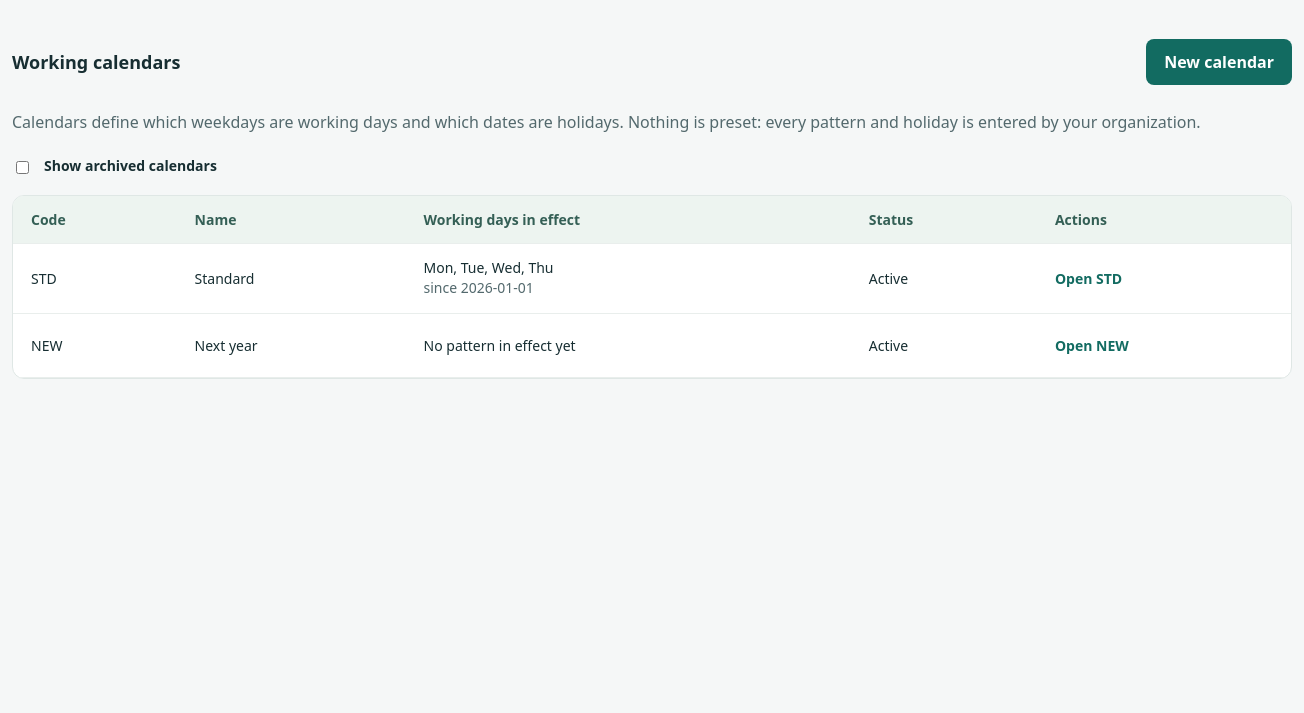
Test: adds a pattern and links 422 field errors to the inputs
The image size is (1304, 713).
Click the button "Open STD": (1089, 278) [1055,261,1122,296]
(page scrolled)
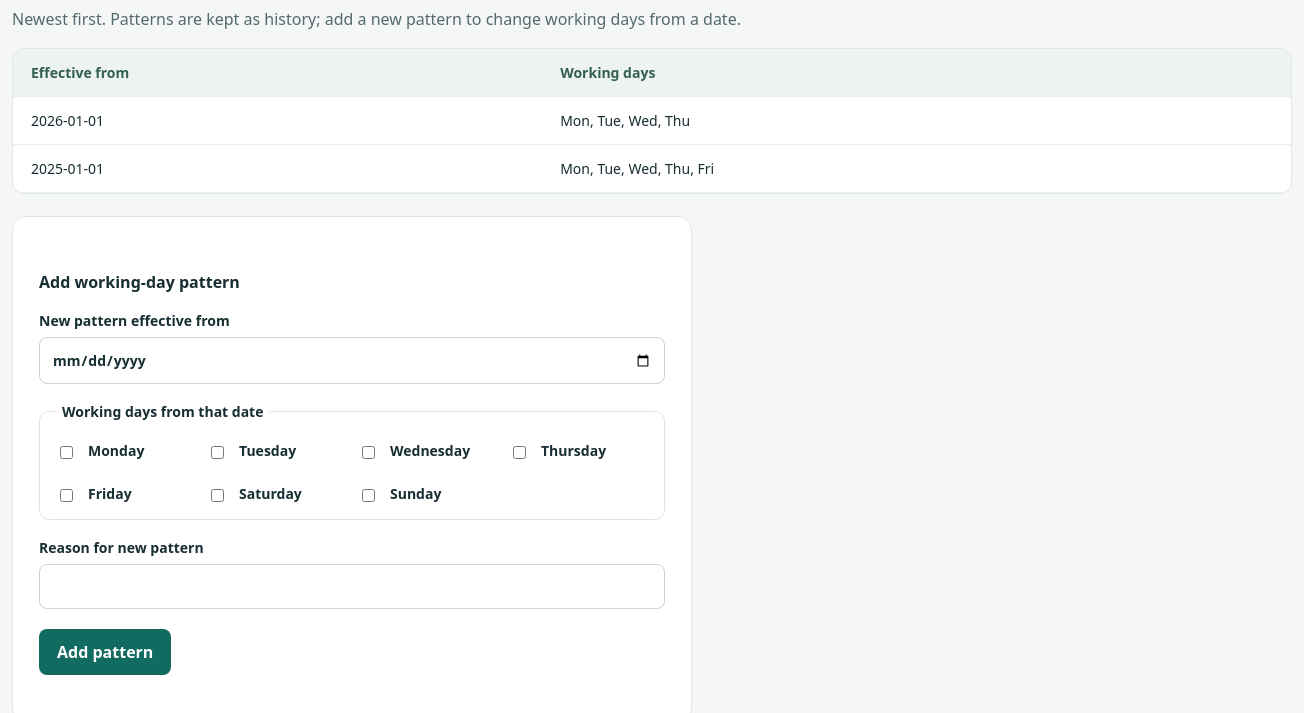
In the date field labelled "New pattern effective from": (352, 361) [39,337,665,384], type "2026-01-01"
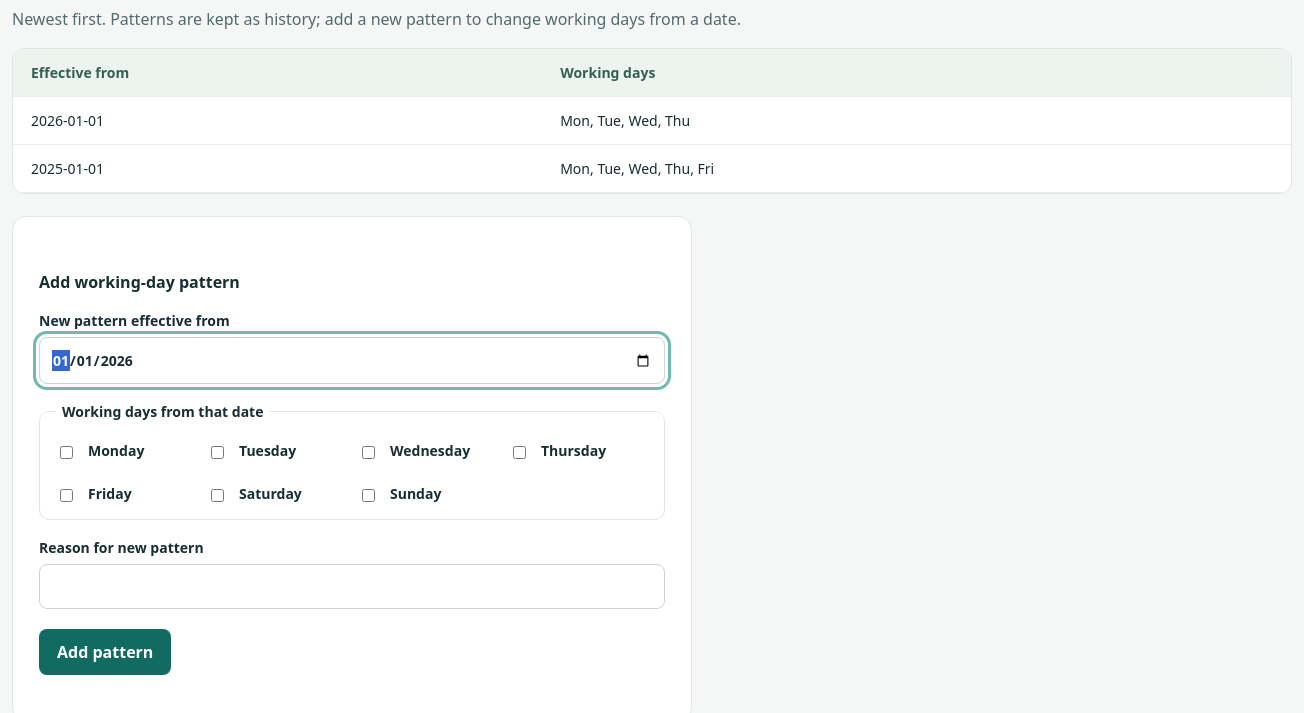
Click the checkbox labelled "Saturday": (218, 496) [211,489,224,502]
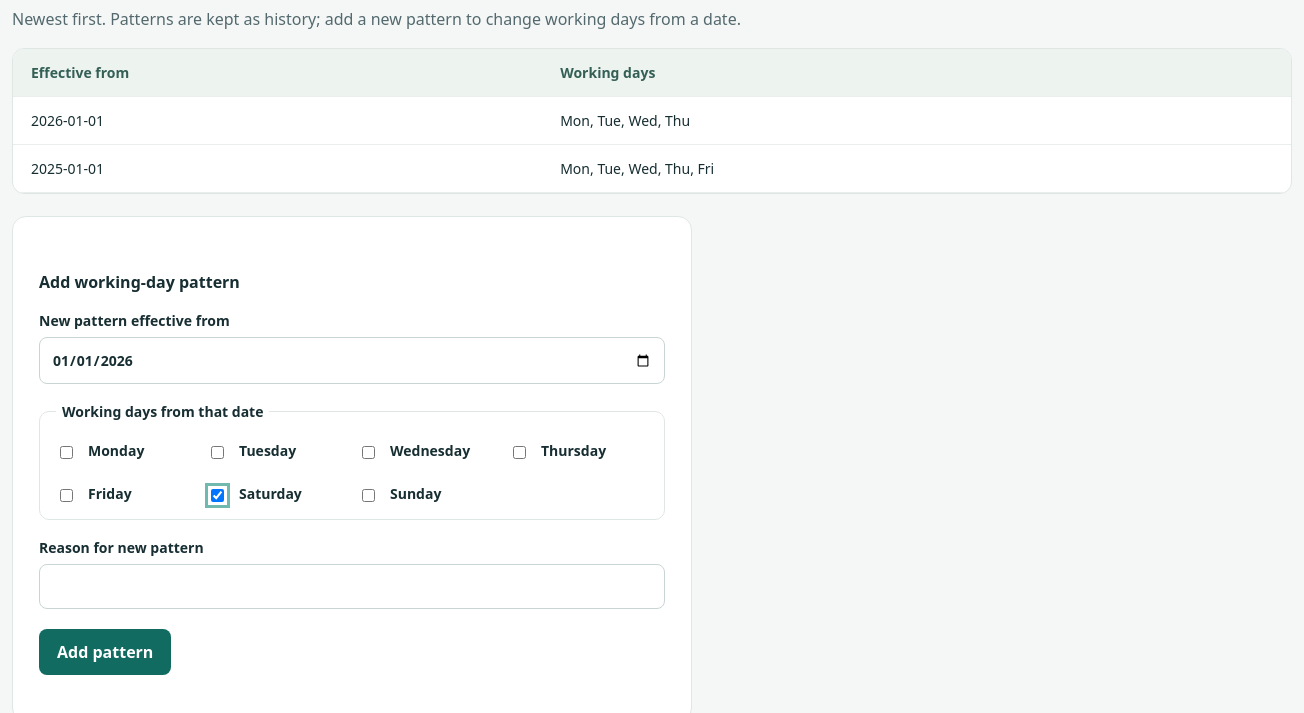
In the field labelled "Reason for new pattern": (352, 587) [39,564,665,609], type "Weekend rota"
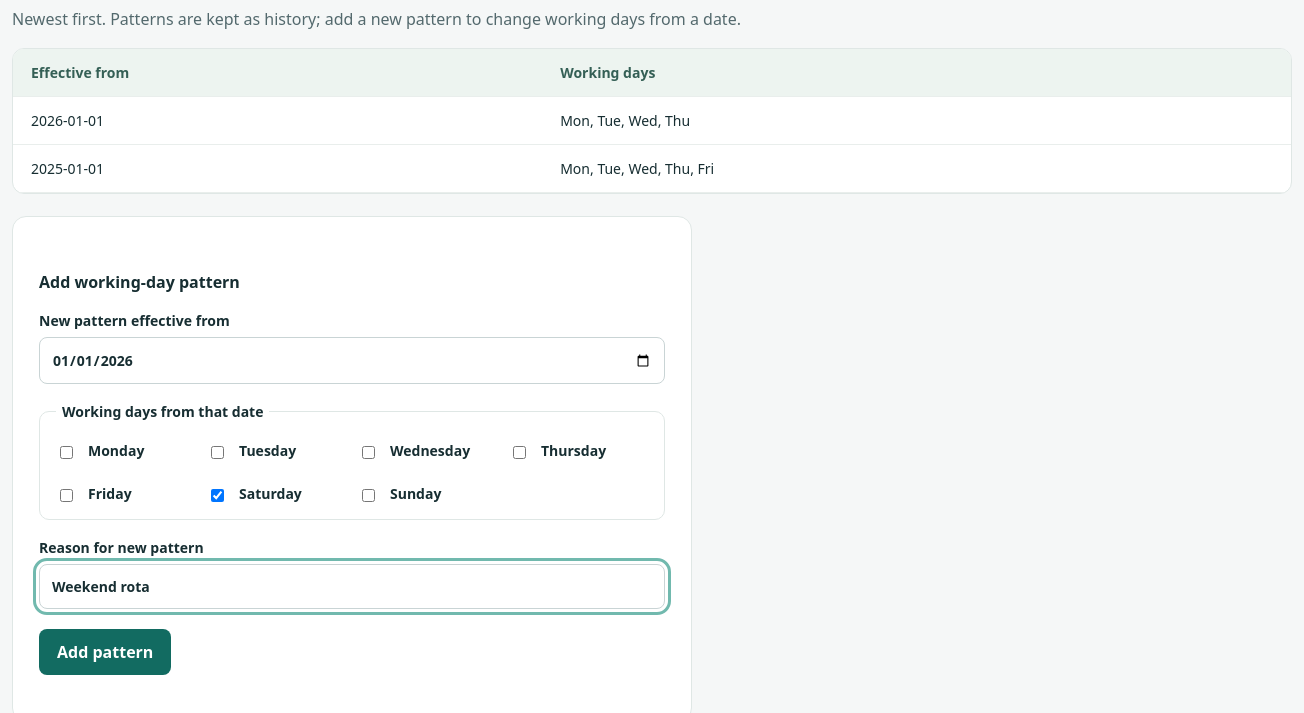
Click the button "Add pattern": (105, 652) [39,629,171,675]
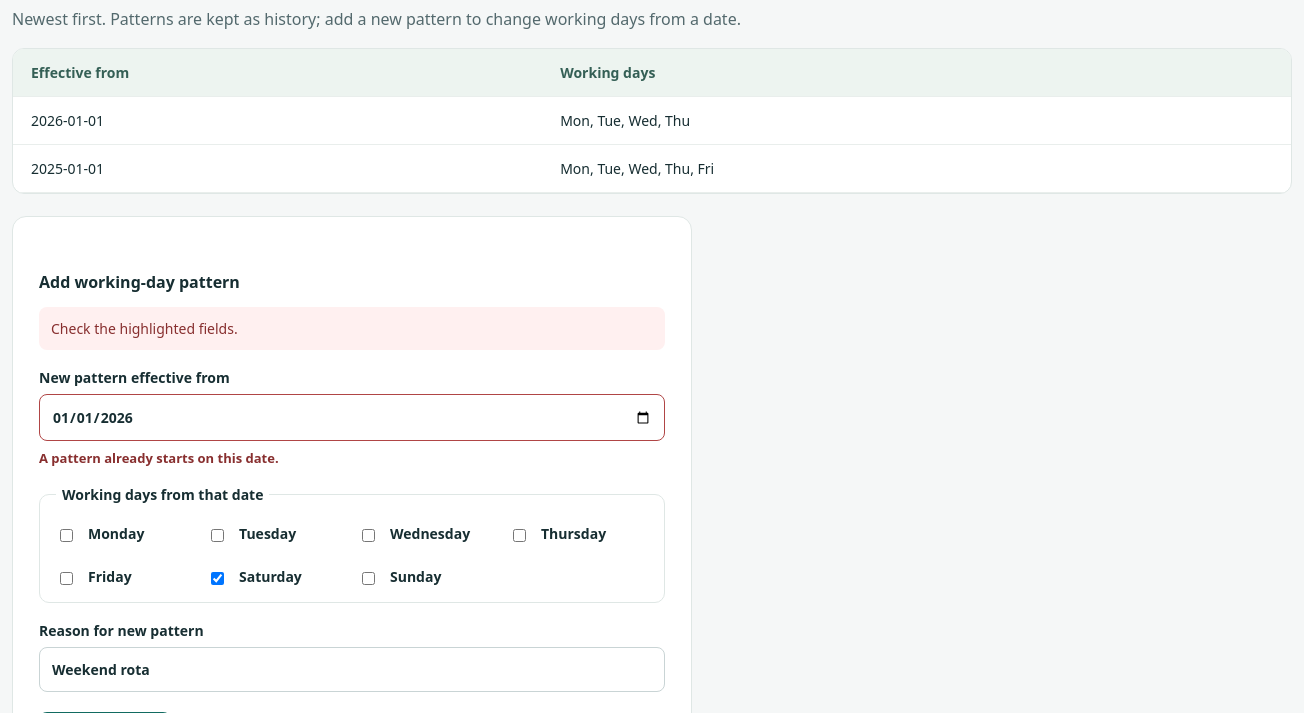
Expected: the message does not show "A pattern already starts on this date.", [39,307,665,350]
Now the message reads "Check the highlighted fields.", box [51,319,238,338]
